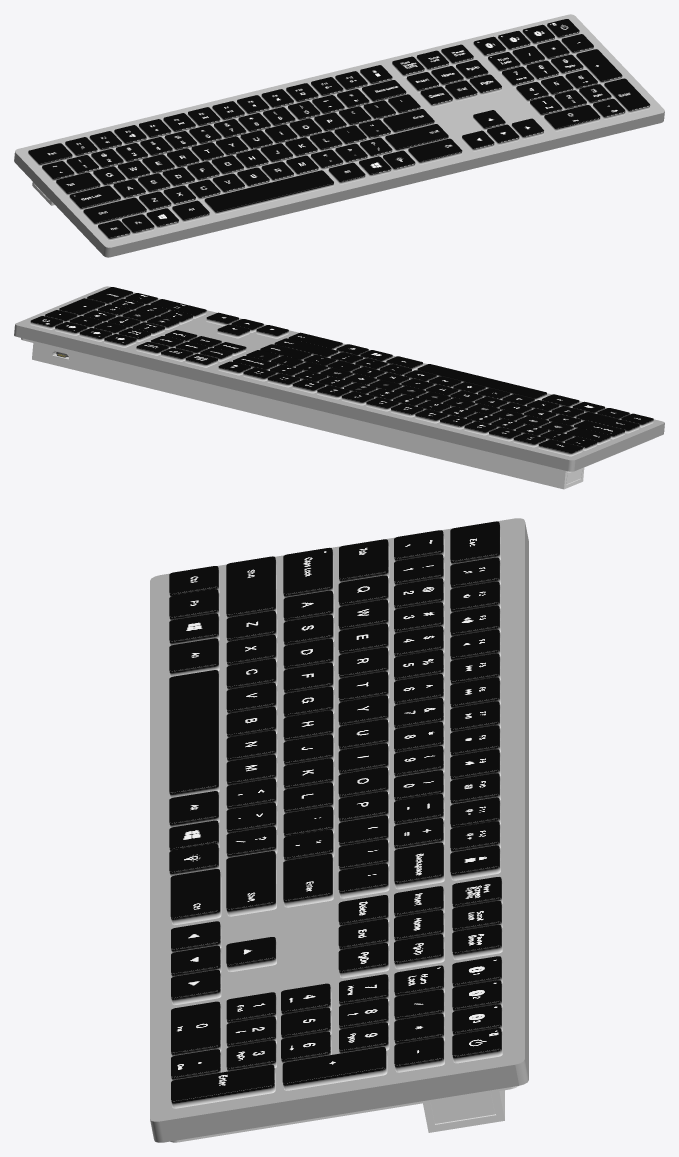
Rendered from wireless_keyboard.glb.
The picture shows the model from 3 angles, top to bottom: view 1: azimuth 30°, elevation 25°; view 2: azimuth 150°, elevation 25°; view 3: azimuth 270°, elevation 25°; orthographic projection. The views are drawn at different scales.
Visible parts, largest first — view 1: keyboard_3, Keyboard Body_2; view 2: keyboard_3, Keyboard Body_2; view 3: keyboard_3, Keyboard Body_2.
Part boxes in pixels (left/top/right/bottom): keyboard_3: left=28, top=19, right=650, bottom=240; Keyboard Body_2: left=14, top=14, right=664, bottom=257; keyboard_3: left=30, top=287, right=653, bottom=456; Keyboard Body_2: left=14, top=286, right=664, bottom=489; keyboard_3: left=169, top=521, right=502, bottom=1108; Keyboard Body_2: left=150, top=518, right=528, bottom=1142.
Bounding box in the file's own units: 3.03 × 0.2318 × 0.8895.
Materials: 6 (1 with a texture image).
